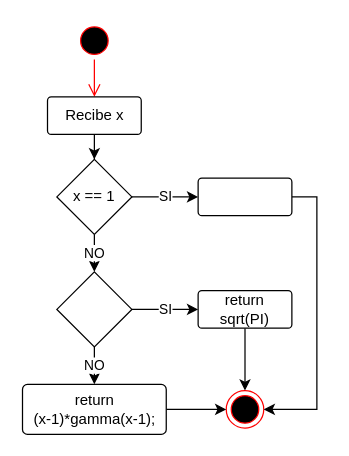
Image size: 349x456. Some labels were removed from this diagram. Here are the shapes that lost their labels. From the top down, the box of each, then its label:
(197, 177, 292, 216): return 1;
(56, 271, 132, 347): x == 0.5
